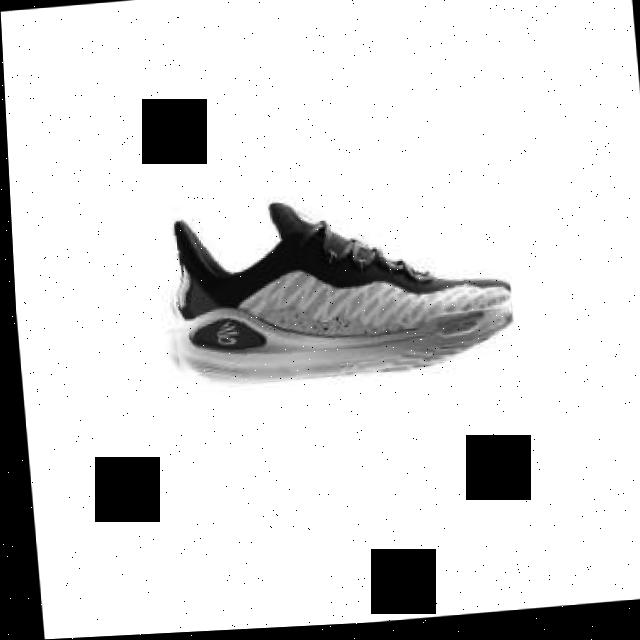shoe: (153, 189, 513, 393)
